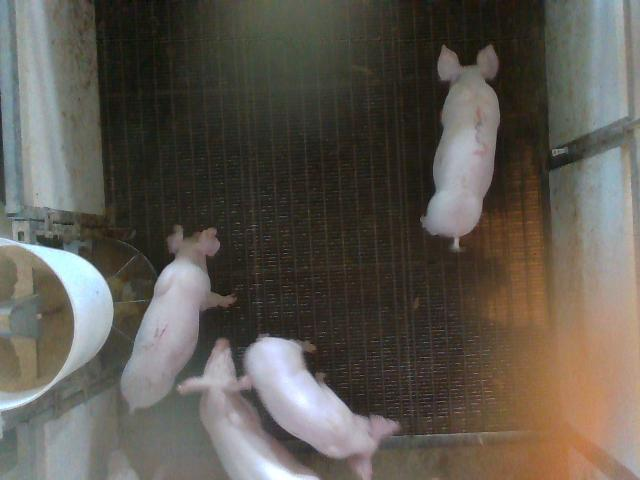pig-3: (420, 45, 500, 249)
